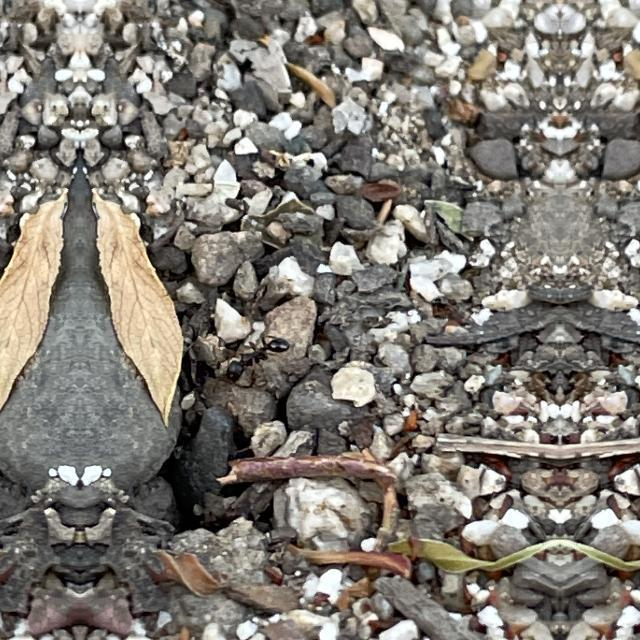Tetramorium: (214, 330, 306, 390)
